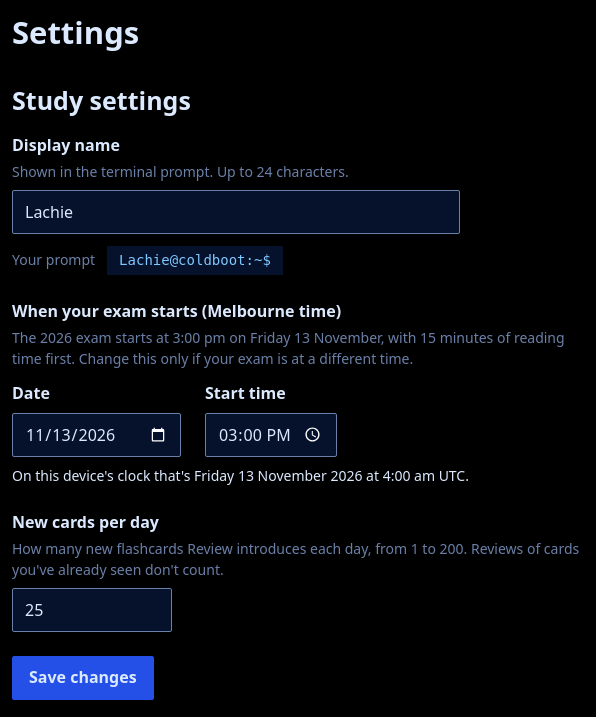
Settings › saves study settings and confirms in words
Replace the text in the field labelled "Display name" with "Lachlan" at (236, 212), box [12, 190, 460, 234]
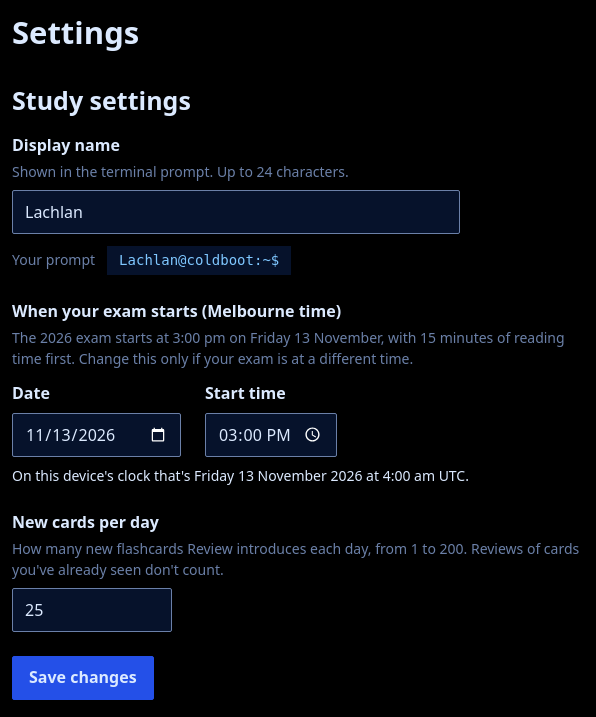
Replace the text in the time field labelled "Start time" with "09:00" at (271, 435), box [205, 413, 337, 457]
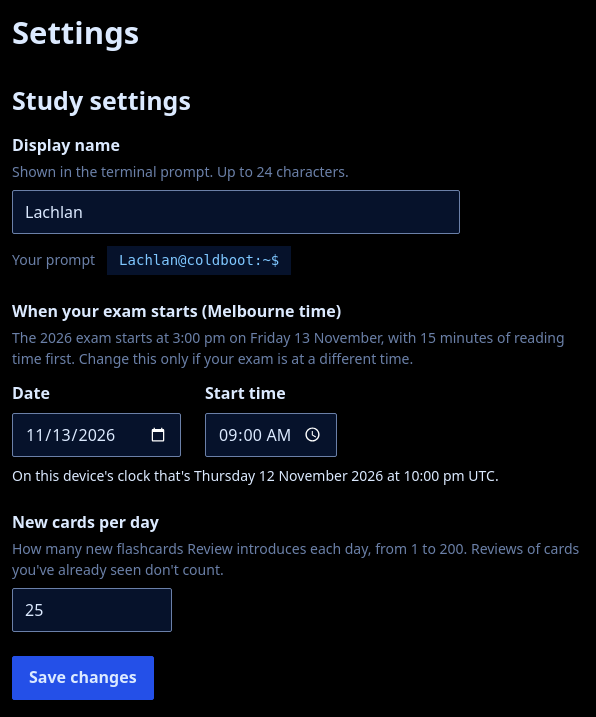
Click the button "Save changes" at (83, 678), box [12, 656, 154, 700]
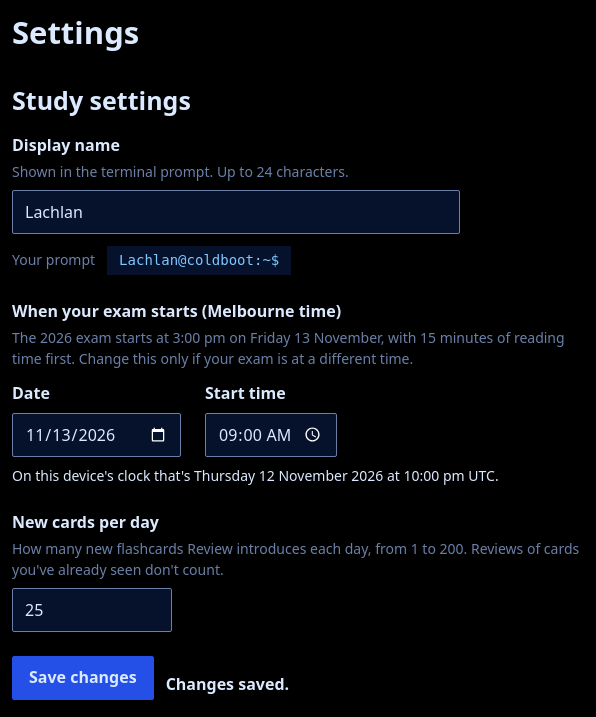
Check: the text "Changes saved." is shown, box [166, 672, 289, 696]
